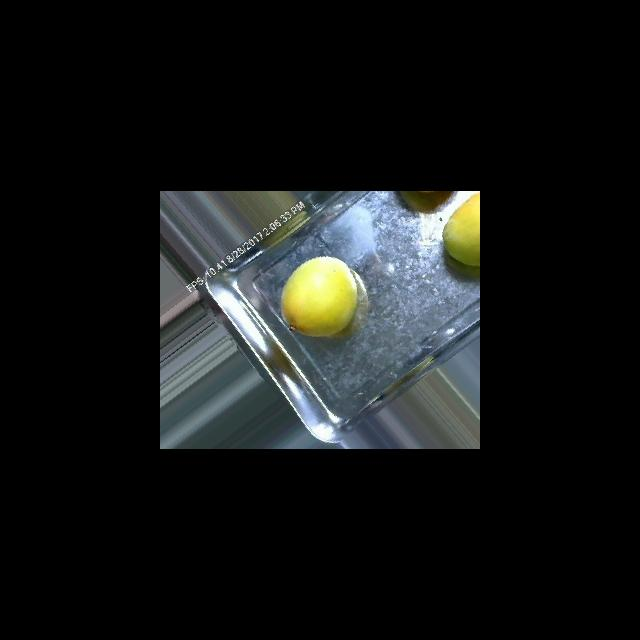mango: (280, 255, 358, 337), (441, 191, 479, 267)
